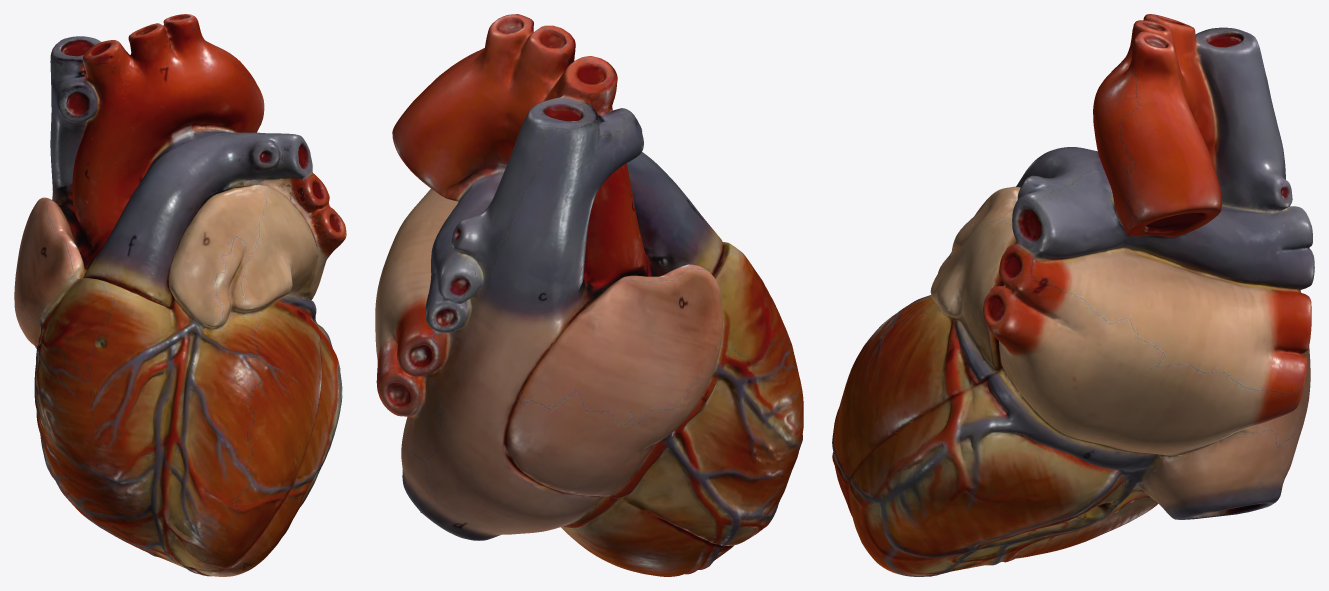
File: heart_coronary.glb
3 views of the same model, side by side, from view 1: azimuth 30°, elevation 25°; view 2: azimuth 150°, elevation 25°; view 3: azimuth 270°, elevation 25° (orthographic). The views are drawn at different scales.
Parts seen in each view (by area): view 1: Object_2; view 2: Object_2; view 3: Object_2.
Part boxes in pixels (x1,y1,x2,y2): Object_2: (14, 14, 346, 576); Object_2: (375, 14, 803, 576); Object_2: (832, 14, 1314, 576).
Bounding box in the file's own units: 99.21 × 156 × 120.
1 material, 1 textured.
